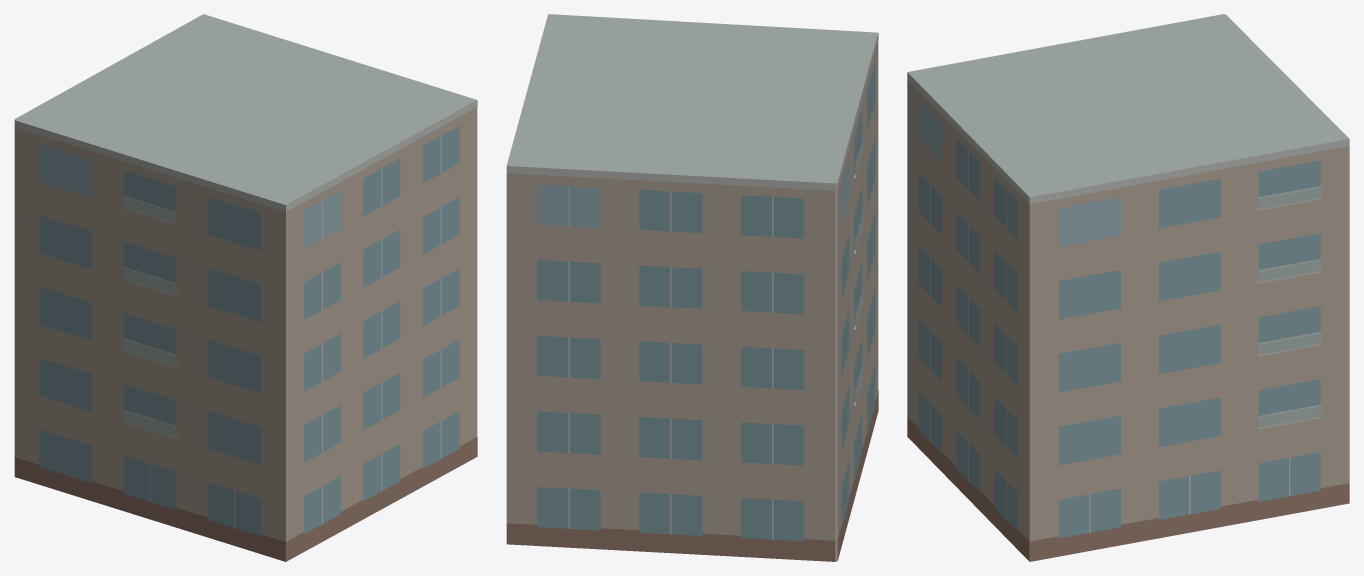
The model's file is survey-upis-32732452.glb.
3 views of the same model, side by side, from view 1: azimuth 30°, elevation 25°; view 2: azimuth 150°, elevation 25°; view 3: azimuth 270°, elevation 25° (orthographic). The views are drawn at different scales.
Visible parts, largest first — view 1: survey-upis-32732452.tmp; view 2: survey-upis-32732452.tmp; view 3: survey-upis-32732452.tmp.
Boxes of the visible parts, x1,y1,x2,y2 form: survey-upis-32732452.tmp: (14, 14, 477, 561); survey-upis-32732452.tmp: (506, 14, 878, 561); survey-upis-32732452.tmp: (907, 14, 1349, 561).
Bounding box in the file's own units: 13.6 × 12.6 × 13.87.
